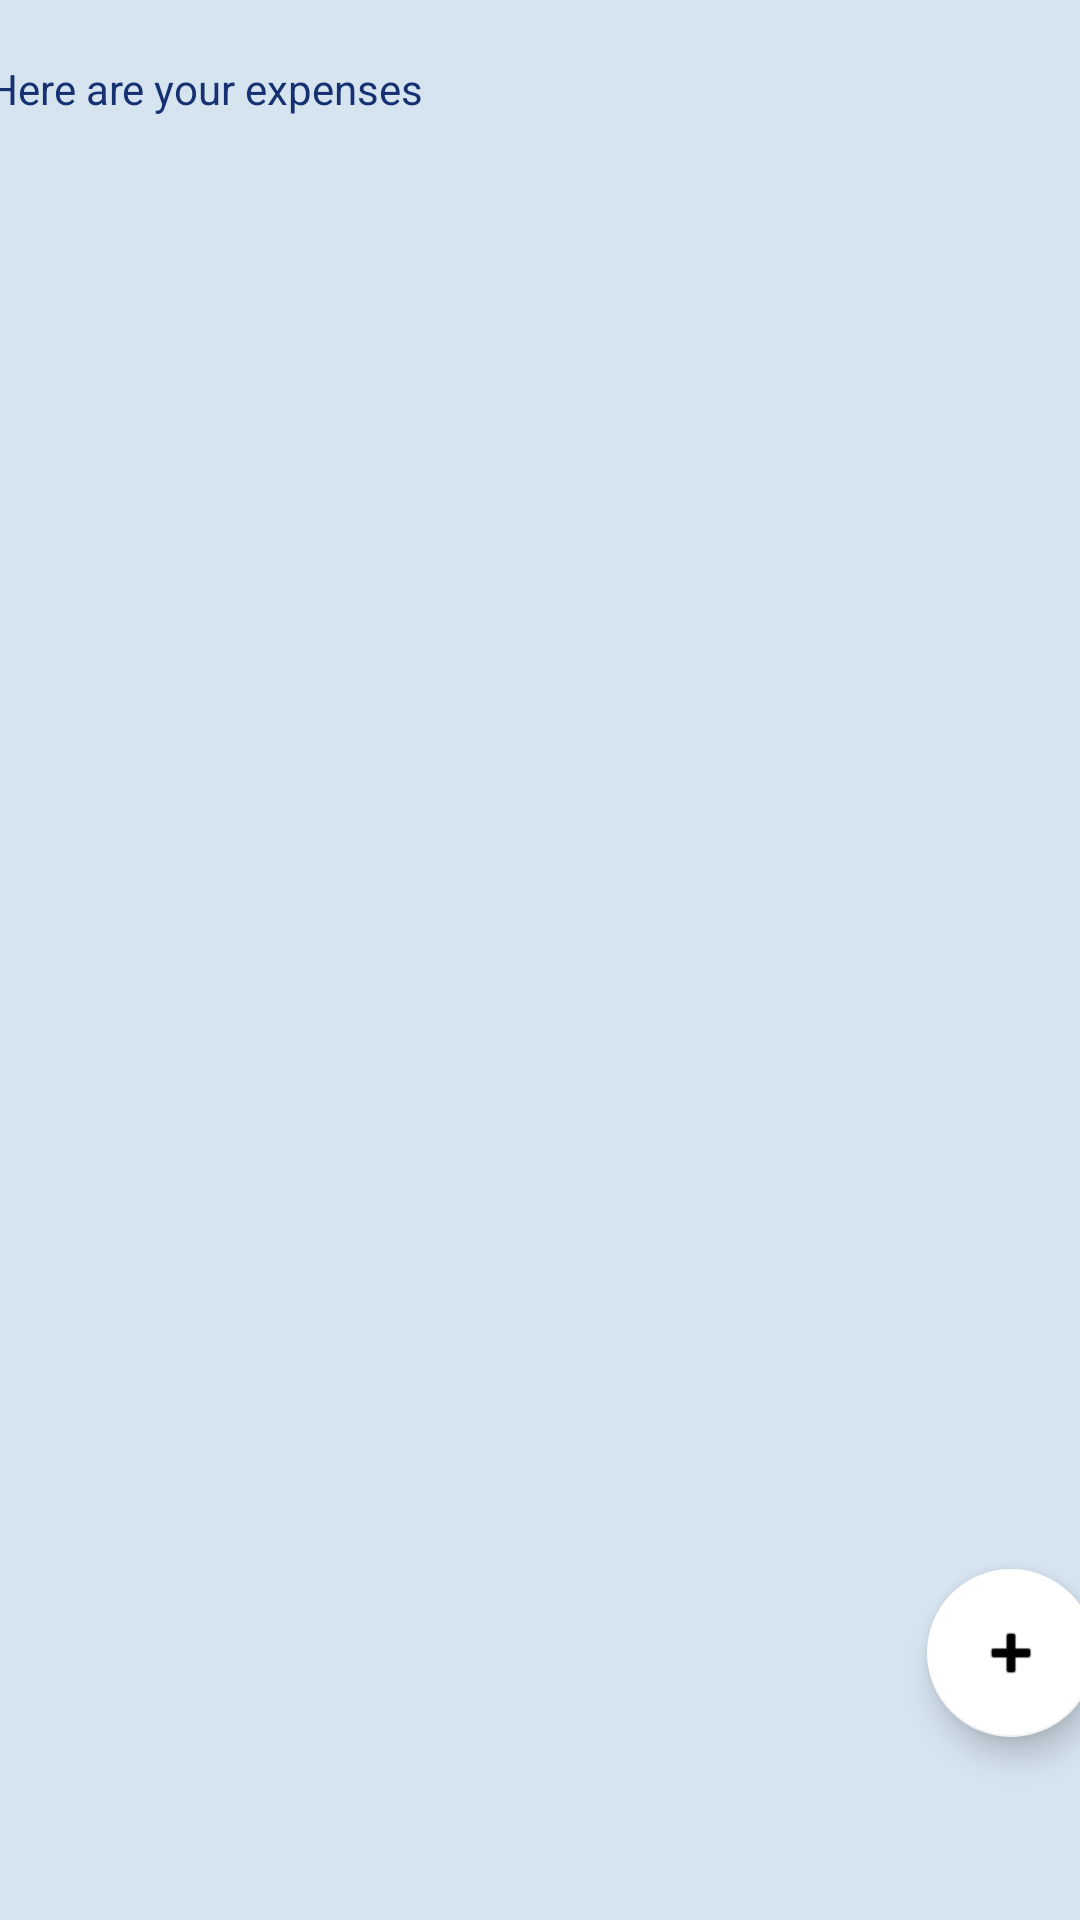

Icon click points for this 1080×1920 phone screenshot, format [x,y]:
add: [1003,1653]
